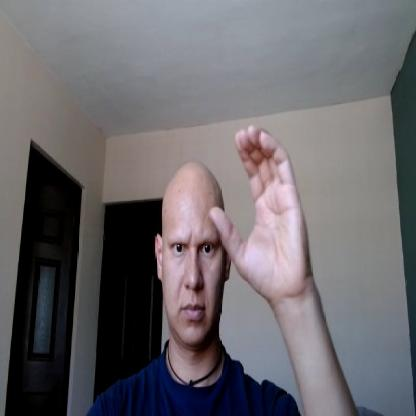C: (210, 124, 309, 298)
